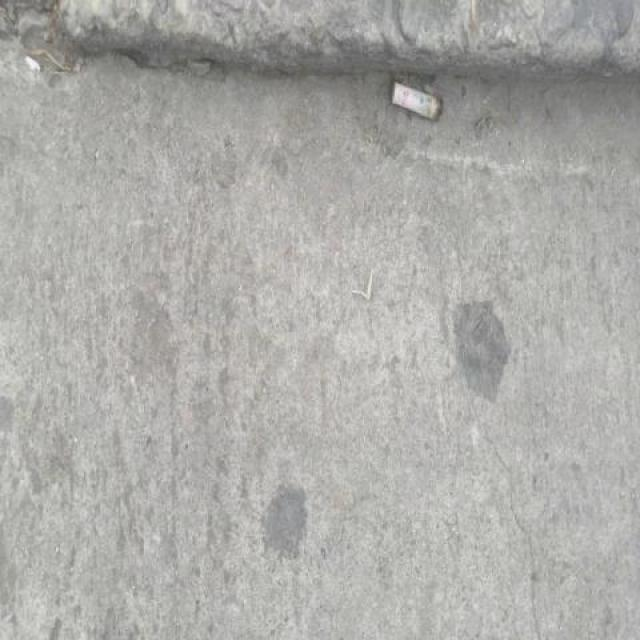non-organic waste: (384, 78, 448, 125)
